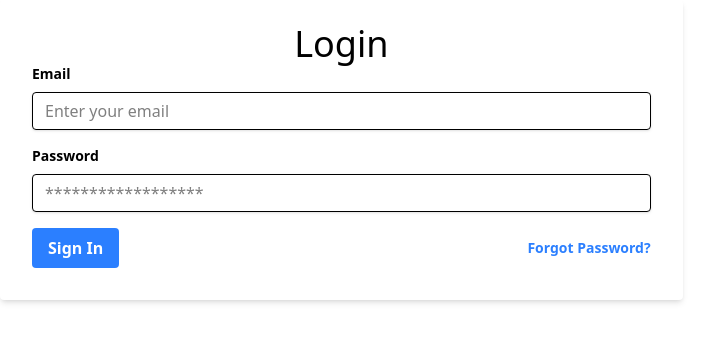
LoginForm › does not submit with rod@example.com, P&$$!, {}
Step 1. Type "rod@example.com" into the field labelled "Email" → (341, 111), box [32,92,651,130]
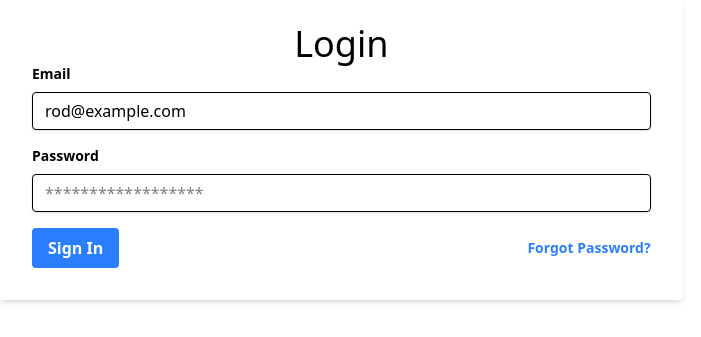
Step 2. Type "P&$$!" into the password field labelled "Password" → (341, 193), box [32,174,651,212]
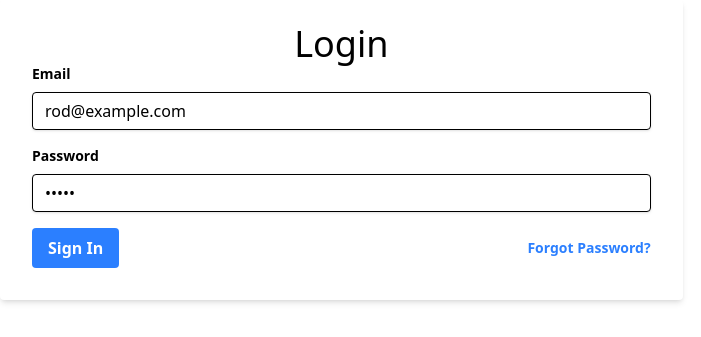
Step 3. Click the button "Sign In" → (76, 248), box [32,228,119,268]
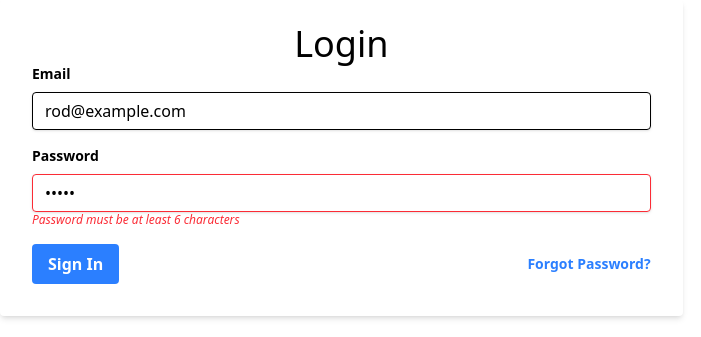
Check: the text "Password must be at least 6 characters" is shown, box [32,211,240,228]
